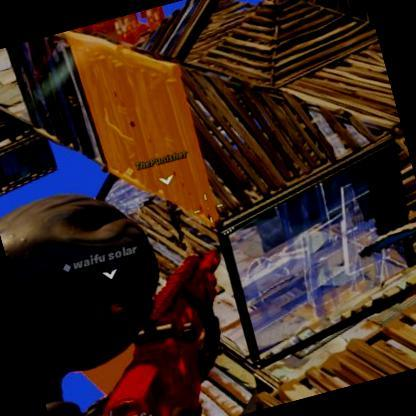person: (162, 193, 192, 252)
